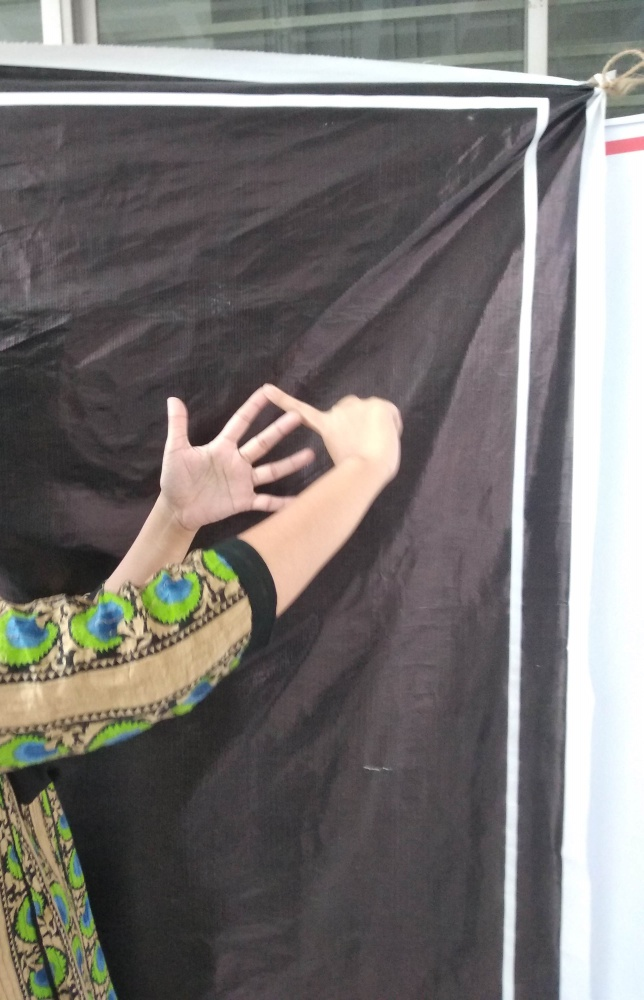o: (145, 368, 407, 546)
